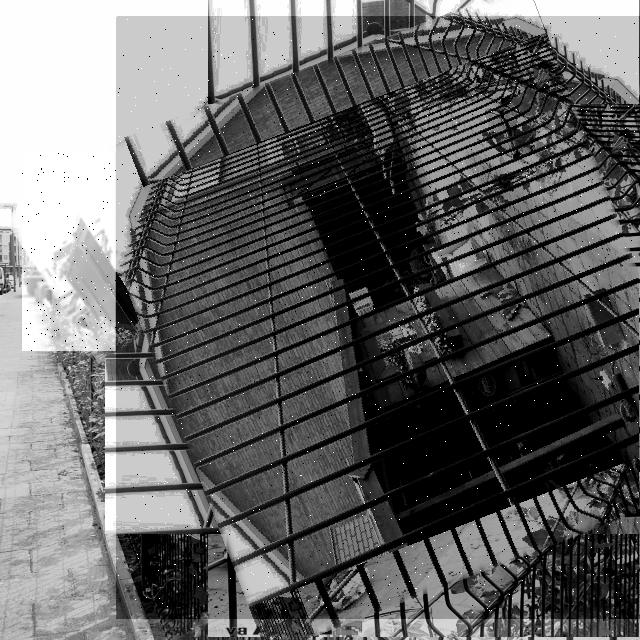fences: (116, 16, 640, 619), (22, 152, 202, 351)
